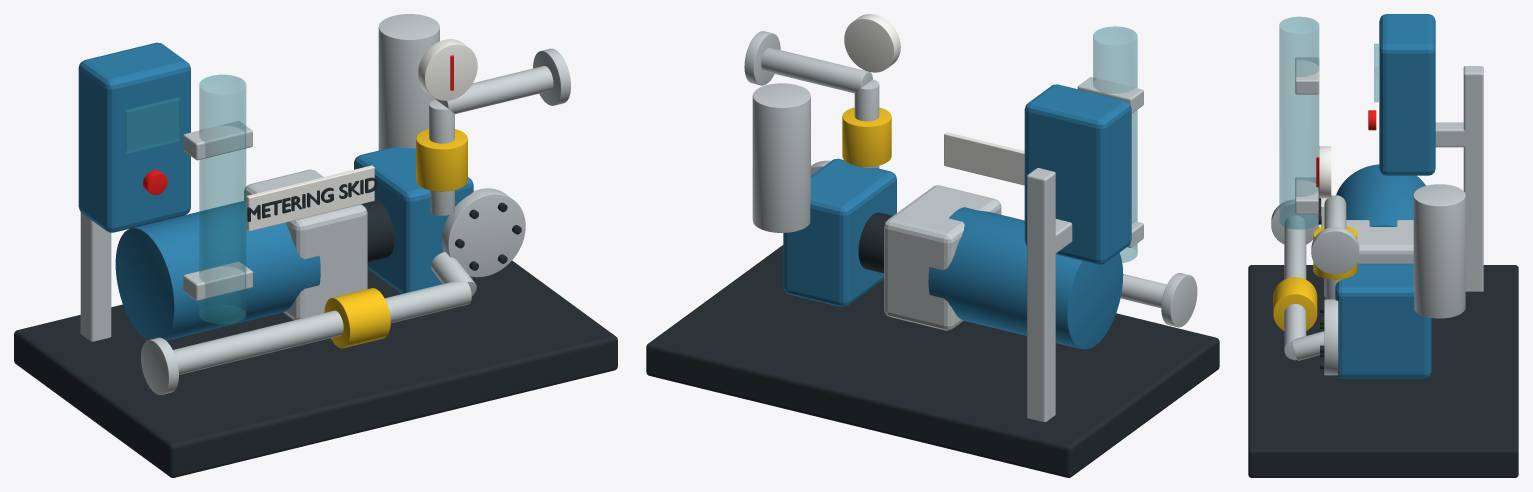
Rendered from liquid_metering_skid.glb.
3 views of the same model, side by side, from view 1: azimuth 30°, elevation 25°; view 2: azimuth 150°, elevation 25°; view 3: azimuth 270°, elevation 25° (orthographic). The views are drawn at different scales.
Visible parts, largest first — view 1: SKID_BASE, CONTROL_PANEL, DRIVE_MOTOR, CALIBRATION_COLUMN, METERING_PUMP_HEAD, GEAR_REDUCER, SUCTION_INLET, PULSATION_DAMPENER, DIAPHRAGM_COVER, METER_NAMEPLATE, PANEL_POST, SUCTION_CHECK (+12 smaller); view 2: SKID_BASE, CONTROL_PANEL, DRIVE_MOTOR, METERING_PUMP_HEAD, GEAR_REDUCER, PULSATION_DAMPENER, PANEL_POST, CALIBRATION_COLUMN, METER_NAMEPLATE, DISCHARGE_HEADER, PRESSURE_GAUGE, DISCHARGE_CHECK (+7 smaller); view 3: SKID_BASE, METERING_PUMP_HEAD, CONTROL_PANEL, CALIBRATION_COLUMN, PULSATION_DAMPENER, PANEL_POST, DRIVE_MOTOR, GEAR_REDUCER, SUCTION_INLET, DISCHARGE_FLANGE, SUCTION_CHECK, DIAPHRAGM_COVER (+9 smaller).
Boxes of the visible parts, x1,y1,x2,y2 form: SKID_BASE: [14, 260, 617, 477]; CONTROL_PANEL: [78, 42, 190, 232]; DRIVE_MOTOR: [115, 200, 320, 340]; CALIBRATION_COLUMN: [199, 74, 246, 324]; METERING_PUMP_HEAD: [354, 147, 473, 293]; GEAR_REDUCER: [244, 169, 367, 320]; SUCTION_INLET: [173, 280, 471, 374]; PULSATION_DAMPENER: [378, 14, 439, 150]; DIAPHRAGM_COVER: [442, 188, 525, 277]; METER_NAMEPLATE: [246, 165, 374, 231]; PANEL_POST: [80, 212, 111, 341]; SUCTION_CHECK: [324, 288, 390, 348]; SKID_BASE: [646, 245, 1219, 477]; CONTROL_PANEL: [1024, 84, 1131, 264]; DRIVE_MOTOR: [928, 207, 1123, 349]; METERING_PUMP_HEAD: [783, 158, 896, 306]; GEAR_REDUCER: [884, 185, 1001, 330]; PULSATION_DAMPENER: [752, 83, 810, 232]; PANEL_POST: [1027, 168, 1055, 421]; CALIBRATION_COLUMN: [1093, 26, 1137, 262]; METER_NAMEPLATE: [944, 132, 1024, 185]; DISCHARGE_HEADER: [761, 47, 872, 93]; PRESSURE_GAUGE: [844, 14, 900, 72]; DISCHARGE_CHECK: [842, 107, 891, 166]; SKID_BASE: [1248, 265, 1518, 477]; METERING_PUMP_HEAD: [1335, 263, 1431, 378]; CONTROL_PANEL: [1379, 14, 1435, 175]; CALIBRATION_COLUMN: [1279, 16, 1319, 229]; PULSATION_DAMPENER: [1413, 184, 1465, 318]; PANEL_POST: [1463, 66, 1483, 291]; DRIVE_MOTOR: [1336, 164, 1425, 226]; GEAR_REDUCER: [1346, 220, 1413, 263]; SUCTION_INLET: [1284, 215, 1306, 360]; DISCHARGE_FLANGE: [1311, 227, 1359, 274]; SUCTION_CHECK: [1273, 277, 1317, 330]; DIAPHRAGM_COVER: [1324, 299, 1338, 375].
Bounding box in the file's own units: 2.2 × 1.66 × 1.35.
